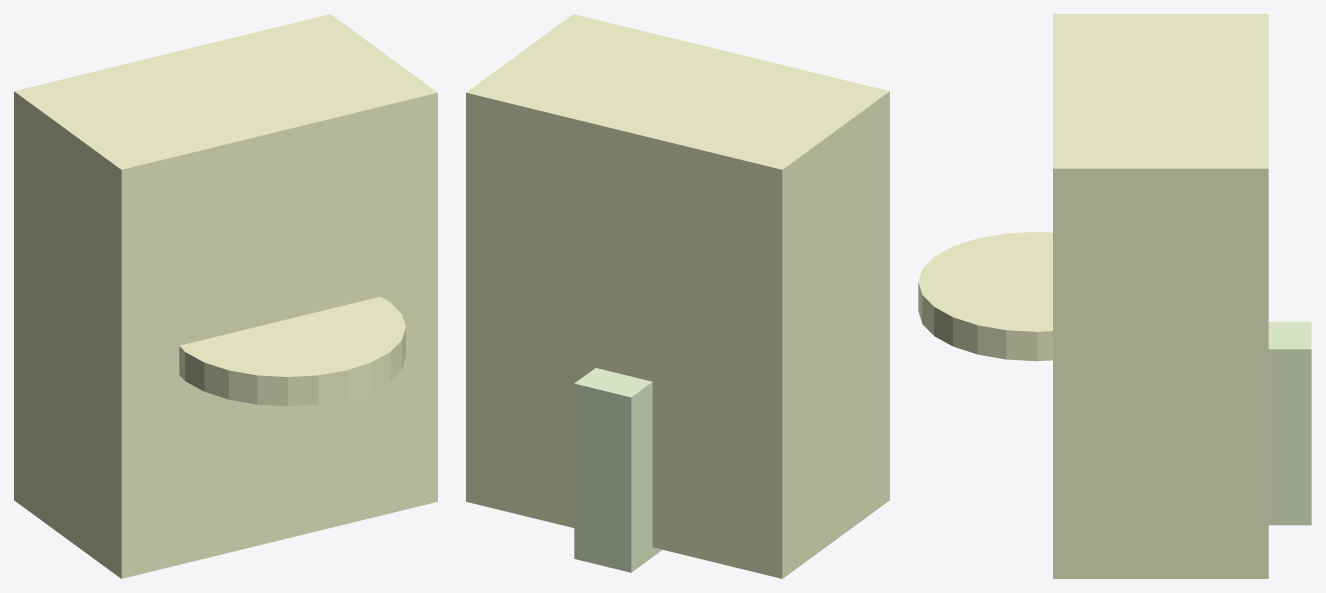
File: signal_school_warning_single_amber_beacon.glb
3 renders of one model, left to right at view 1: azimuth 30°, elevation 25°; view 2: azimuth 150°, elevation 25°; view 3: azimuth 270°, elevation 25°, orthographic.
Visible parts, largest first — view 1: housing, lens_school_amber; view 2: housing, bracket; view 3: housing, lens_school_amber, bracket.
Part boxes in pixels (box(x1,y1,x2,y2)): housing: box(14, 14, 437, 578); lens_school_amber: box(179, 296, 405, 406); housing: box(466, 14, 889, 578); bracket: box(574, 368, 662, 572); housing: box(1053, 14, 1268, 578); lens_school_amber: box(918, 231, 1052, 361); bracket: box(1268, 321, 1311, 525).
Size of the model in its own units: 0.34 by 0.43 by 0.365.
